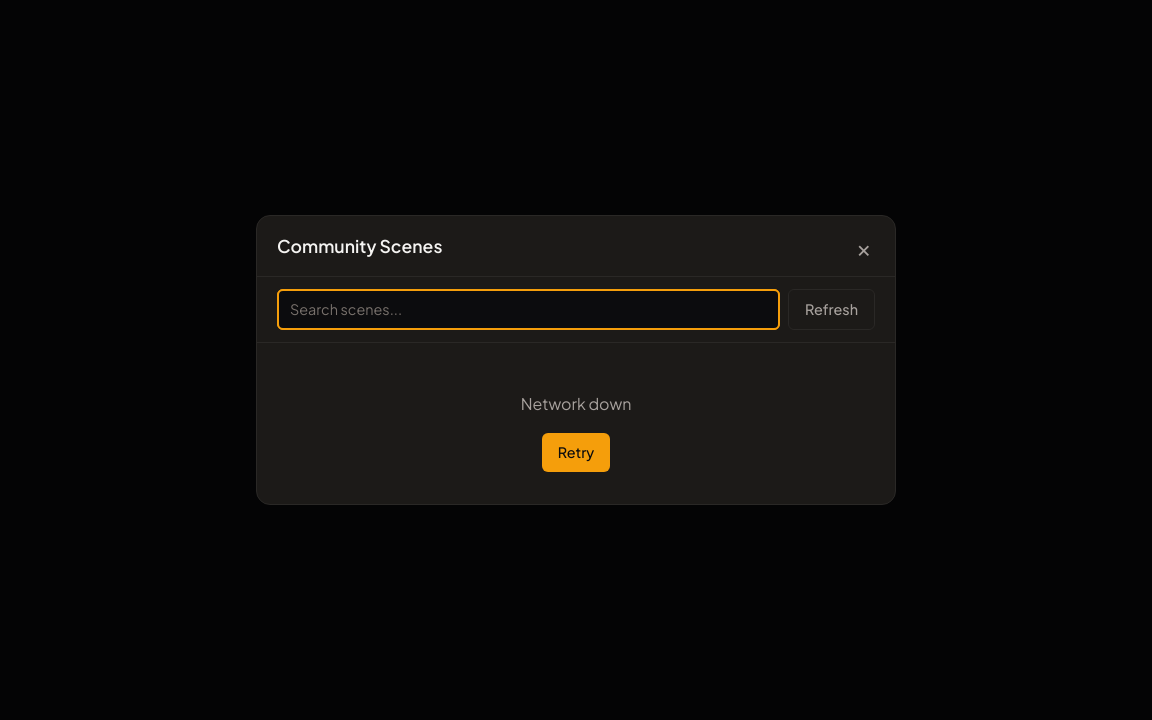
Test case: registryBrowser › load errors › shows the error message and retries with a forced refresh
Expected: the element with class "registry-empty" shows "Network down", [521,393,631,414]
Click the button "Retry" at [576, 452], box [542,433,610,472]
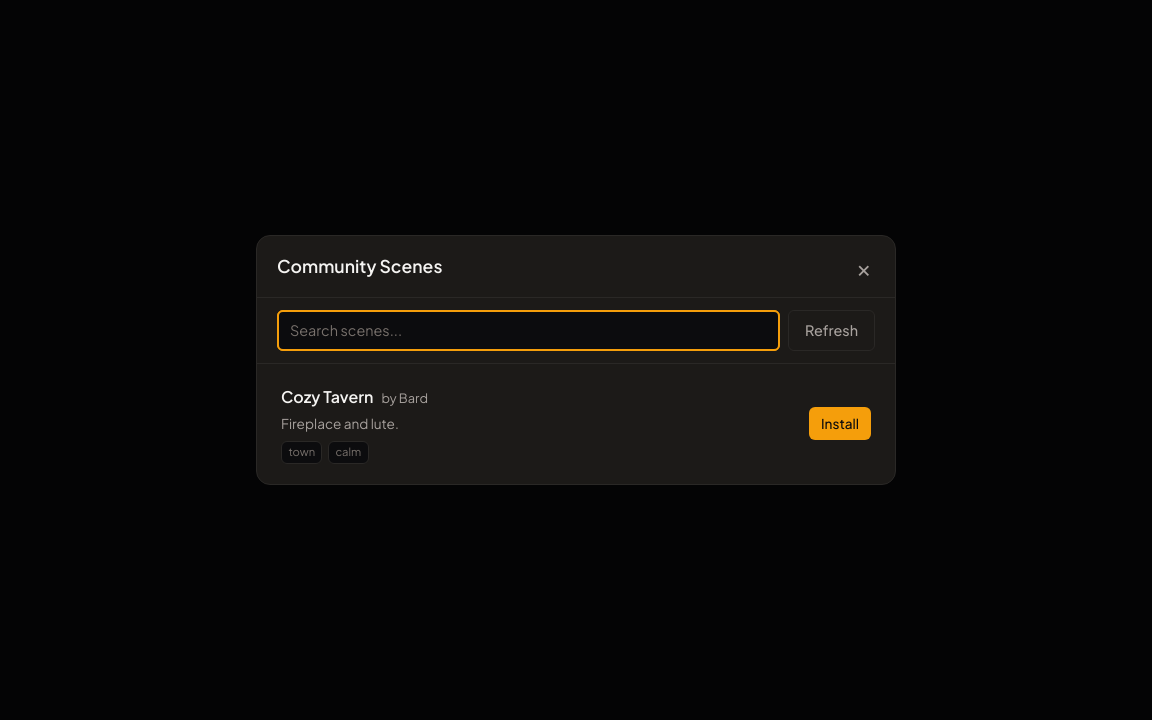
Expected: the text "Network down" is gone
